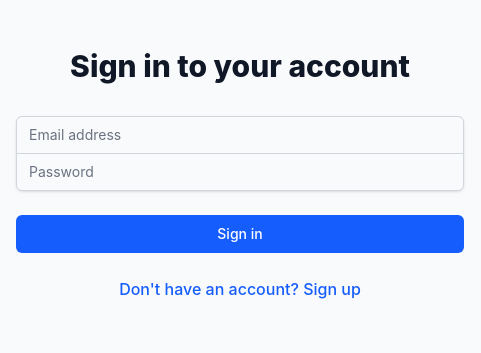
Test case: Bug 2 — SignIn error not displayed › should display error message when signIn returns { success: false } (FAILS: no error shown)
This screenshot has width=481, height=353.
Type "test@example.com" into the field with placeholder "Email address" at [240, 134], box [16,116,464,154]
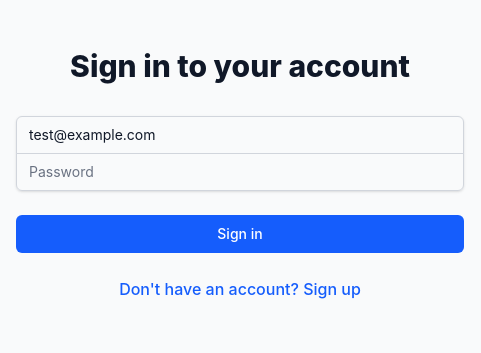
Type "wrongpassword" into the password field with placeholder "Password" at [240, 172], box [16,152,464,190]
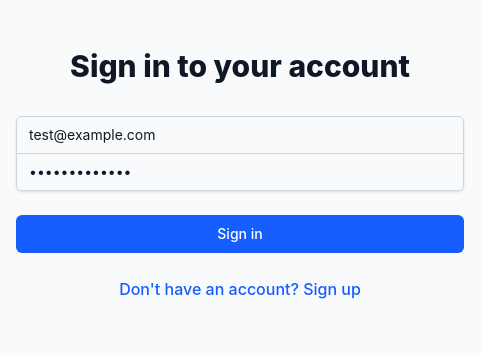
Click the button "Sign in" at [240, 234], box [16,214,464,252]
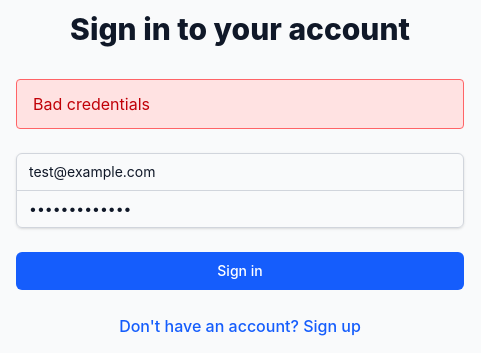
Result: the text "Bad credentials" is shown at [16,78,464,128]
